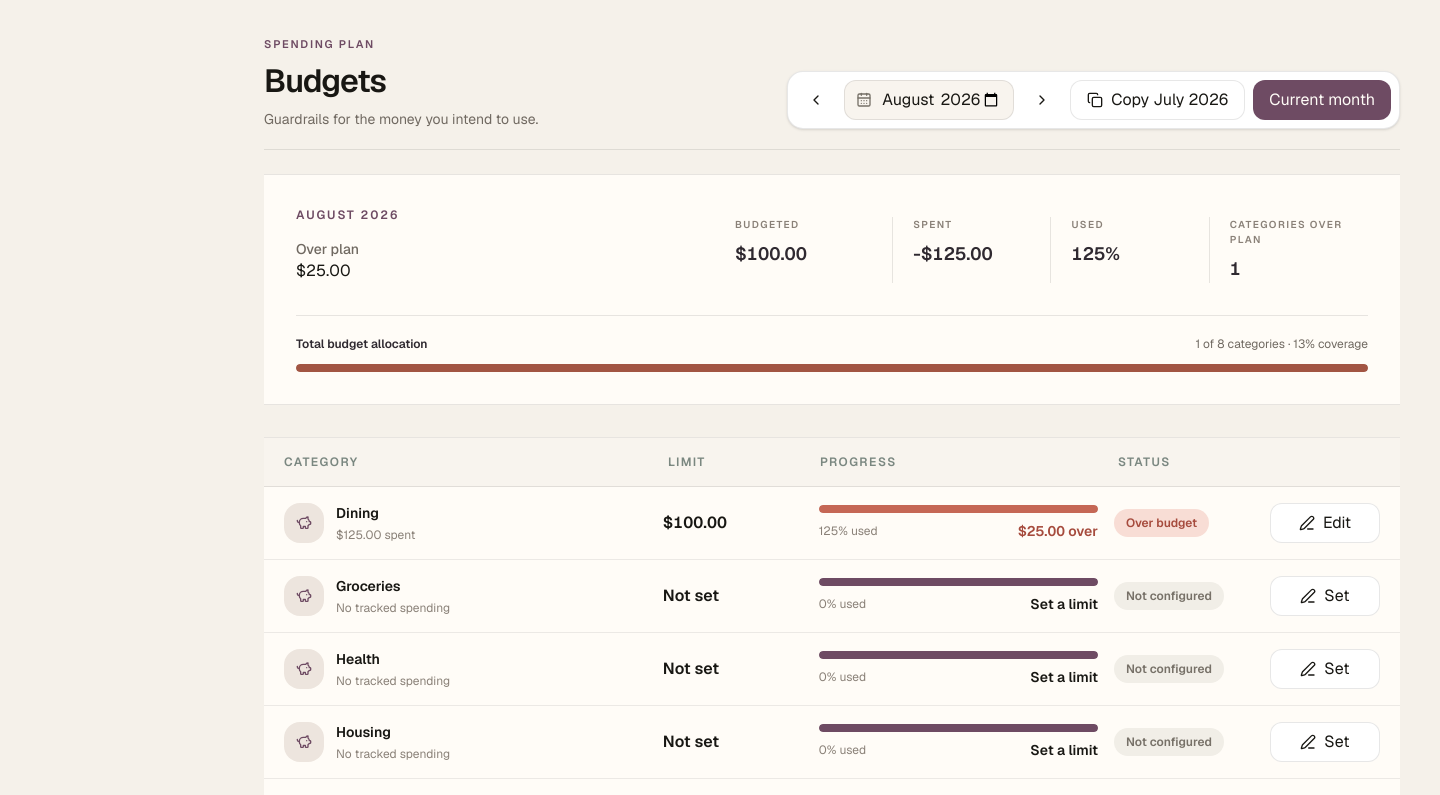
Test case: monthly budgets › deletes only the edited budget month after confirmation
Click the button "Edit": coordinates (1325, 522) [1270, 502, 1380, 542]
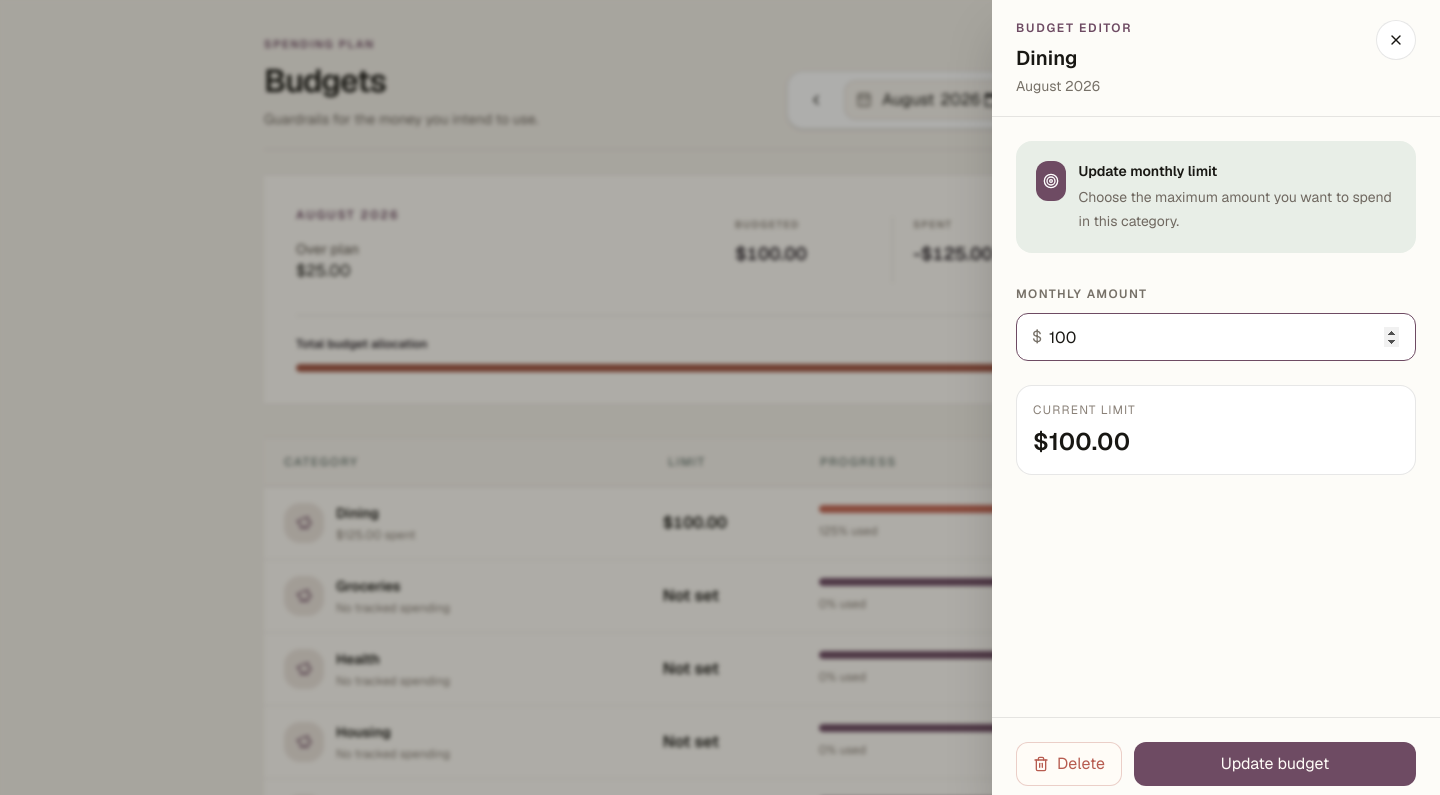
Click the button "Delete": coordinates (1069, 764) [1016, 742, 1122, 786]
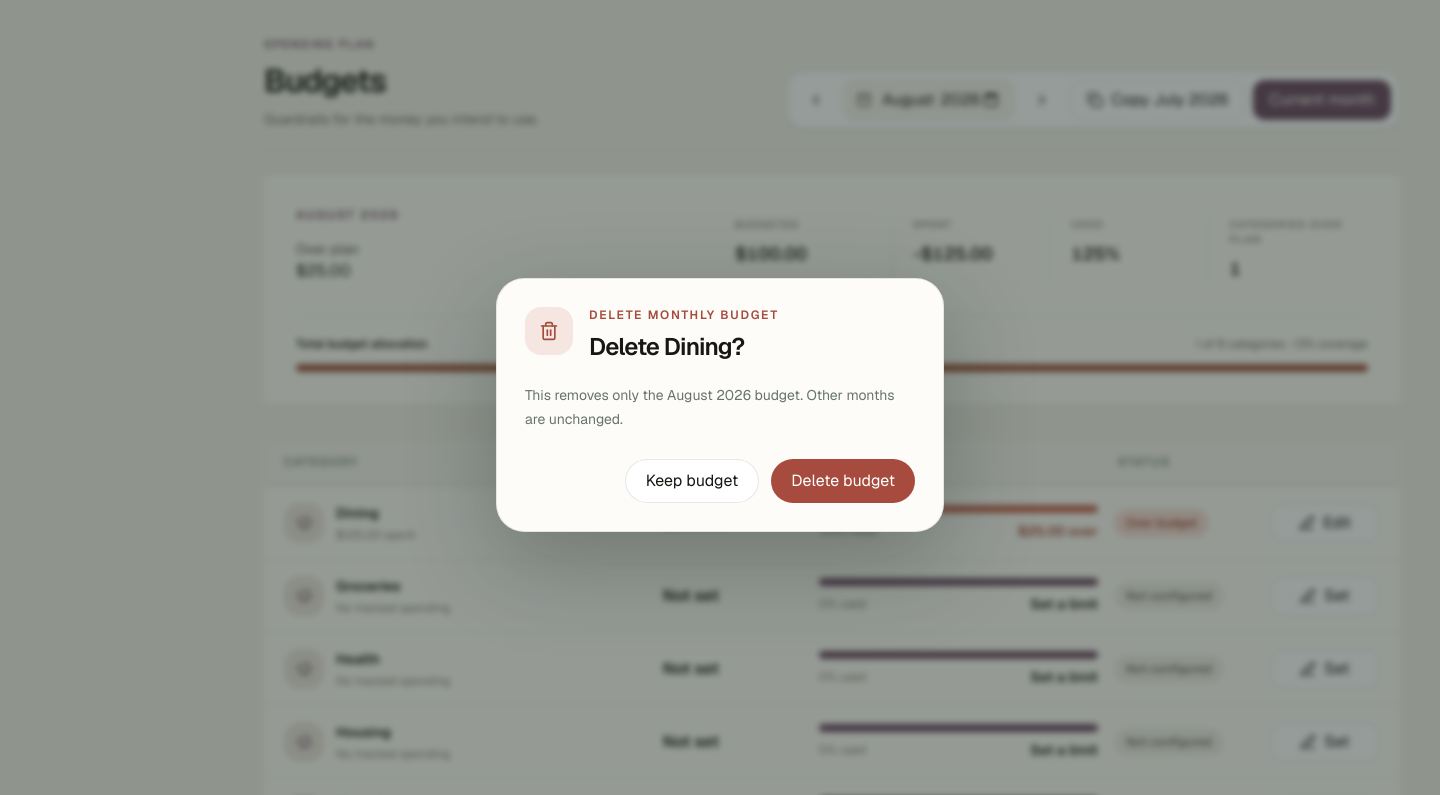
Expected: the text "Other months are unchanged." is shown, [525, 386, 894, 428]
Click the button "Delete budget": coordinates (843, 481) [771, 459, 915, 503]
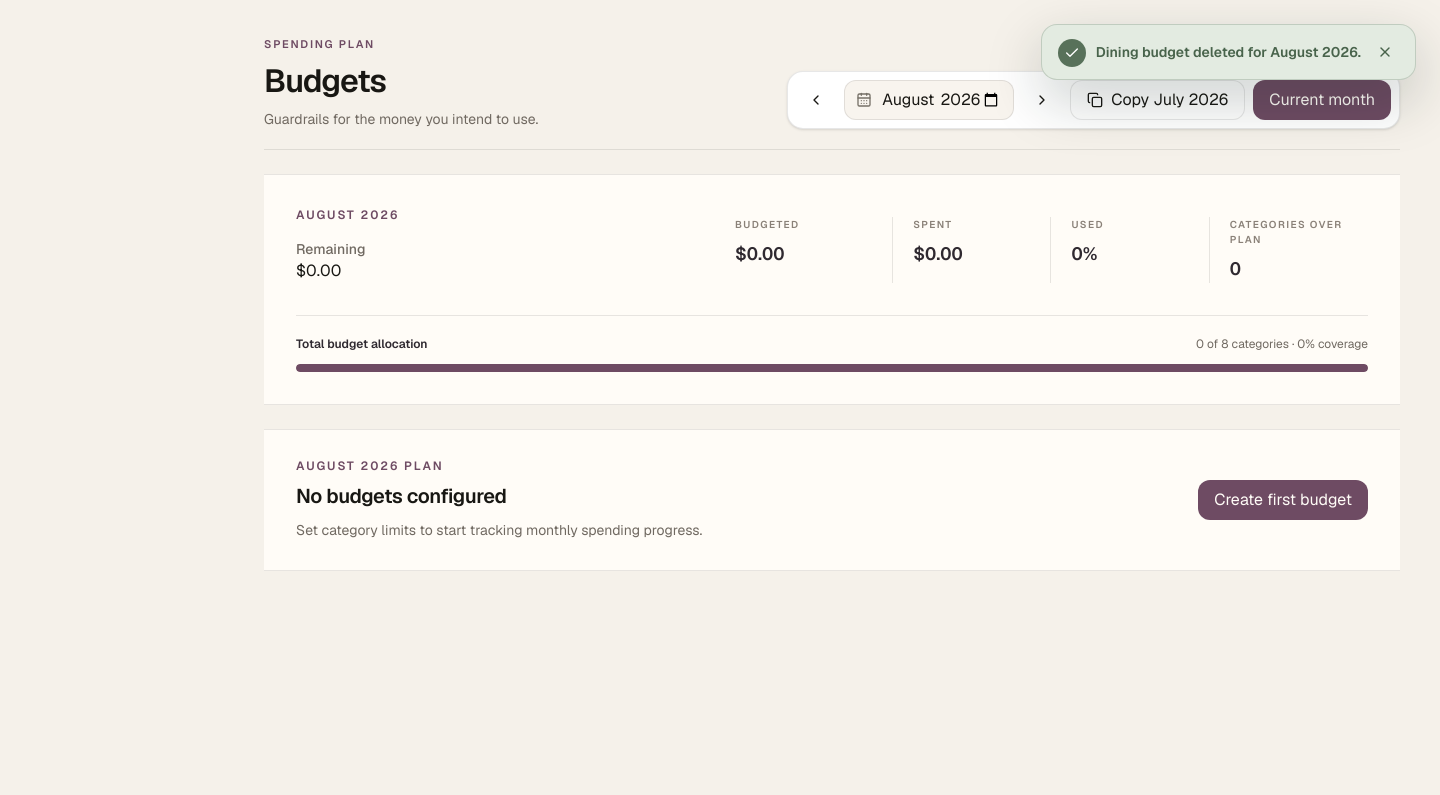
Expected: the text "Dining budget deleted for August 2026." is shown, [1096, 42, 1361, 62]
